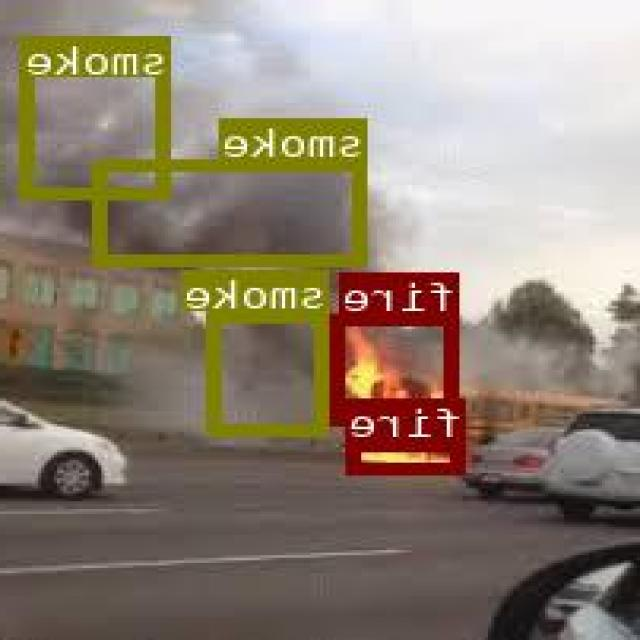fire: (334, 313, 462, 422), (351, 438, 466, 471)
smoke: (98, 158, 368, 264), (23, 34, 171, 198), (210, 310, 332, 432)
